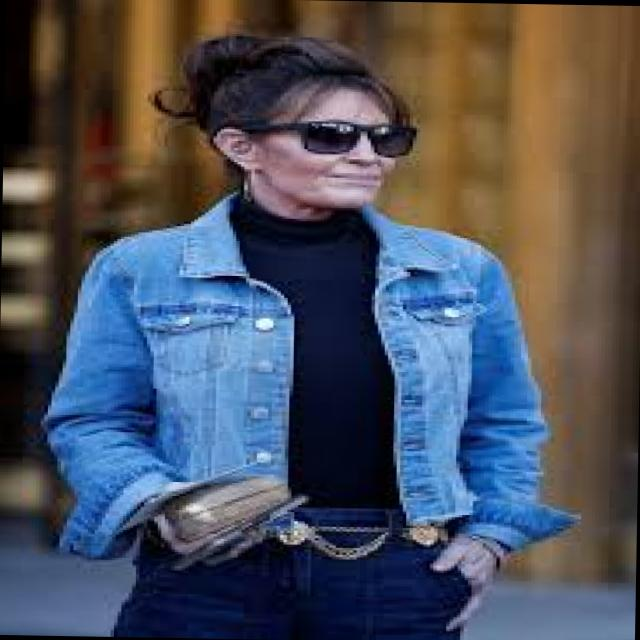Jacket: (28, 184, 598, 579)
